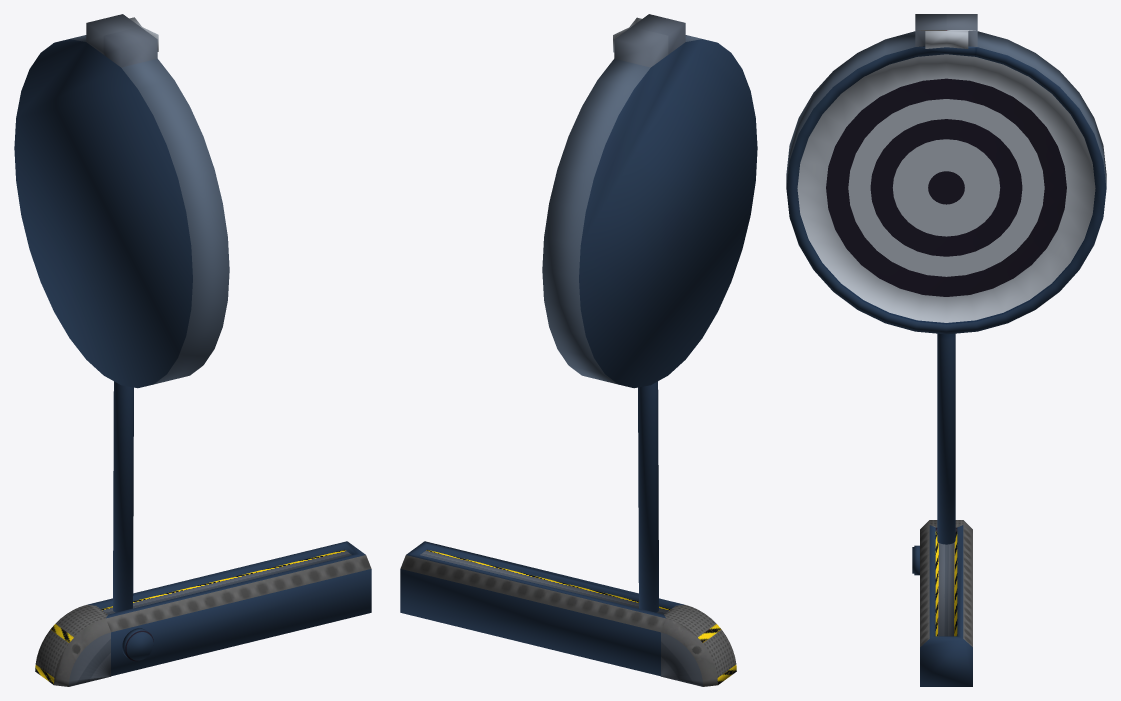
File: target.fbx
The picture shows the model from 3 angles, left to right: view 1: azimuth 30°, elevation 25°; view 2: azimuth 150°, elevation 25°; view 3: azimuth 270°, elevation 25°; orthographic projection. The views are drawn at different scales.
Visible parts, largest first — view 1: Paddle, Targetbody; view 2: Paddle, Targetbody; view 3: Paddle, Targetbody.
Boxes of the visible parts, x1,y1,x2,y2 form: Paddle: (14,14,229,612); Targetbody: (35,541,371,686); Paddle: (542,14,757,612); Targetbody: (400,541,736,686); Paddle: (786,14,1106,544); Targetbody: (912,520,972,686).
Bounding box in the file's own units: 202 × 388 × 200.
Materials: 1 (1 with a texture image).
